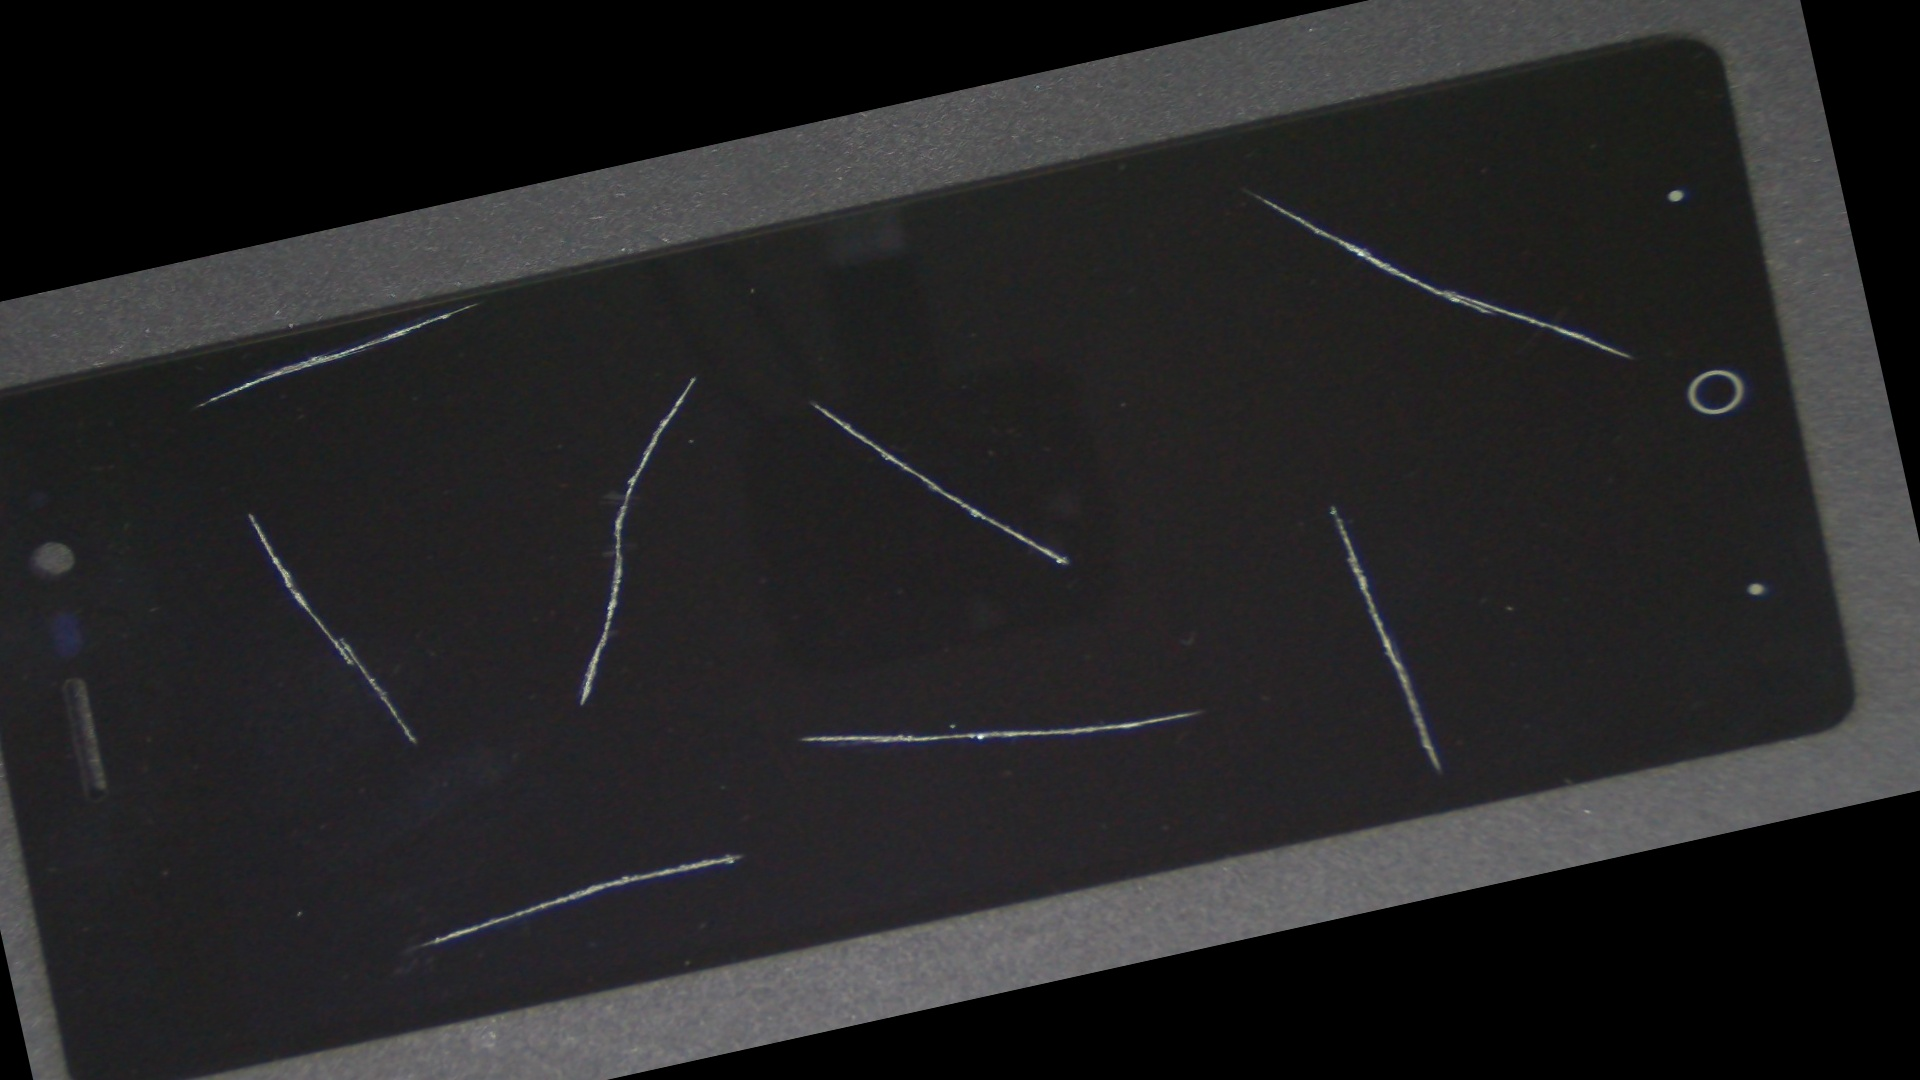oil: (600, 146, 1920, 891), (332, 357, 1261, 1080), (560, 0, 1833, 421), (247, 468, 971, 1080), (342, 169, 1283, 629), (282, 182, 1108, 570), (169, 190, 767, 419), (58, 349, 438, 675)
